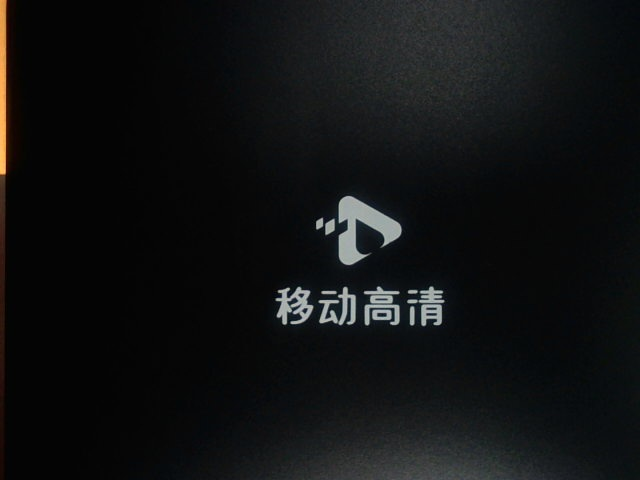AO_MobileHD: (249, 171, 456, 339)
